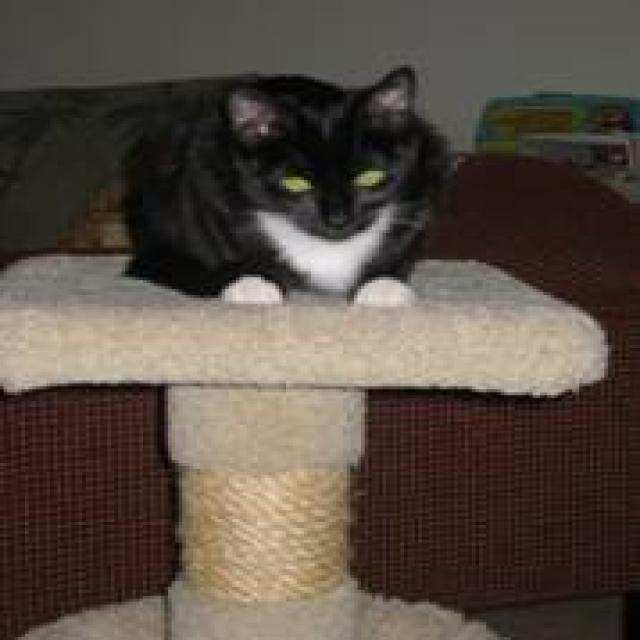cat: (114, 62, 462, 307)
